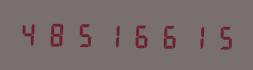eight: (44, 18, 70, 49)
five: (71, 19, 97, 49), (206, 21, 232, 51)
four: (17, 18, 43, 48)
one: (179, 20, 205, 51), (98, 19, 124, 49)
six: (125, 19, 151, 50), (152, 20, 178, 50)
